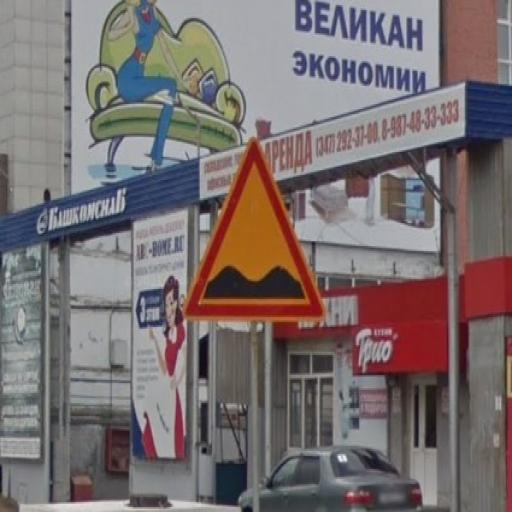traffic_sign: (183, 136, 327, 323)
